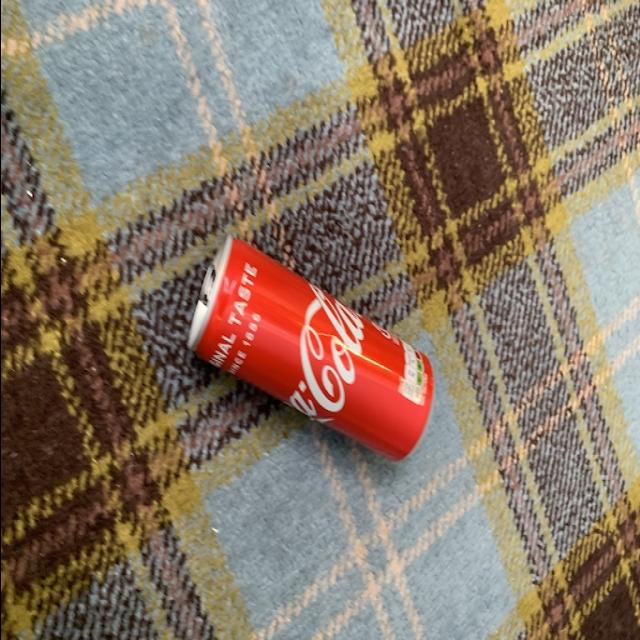Aluminum Can: (174, 232, 438, 462)
